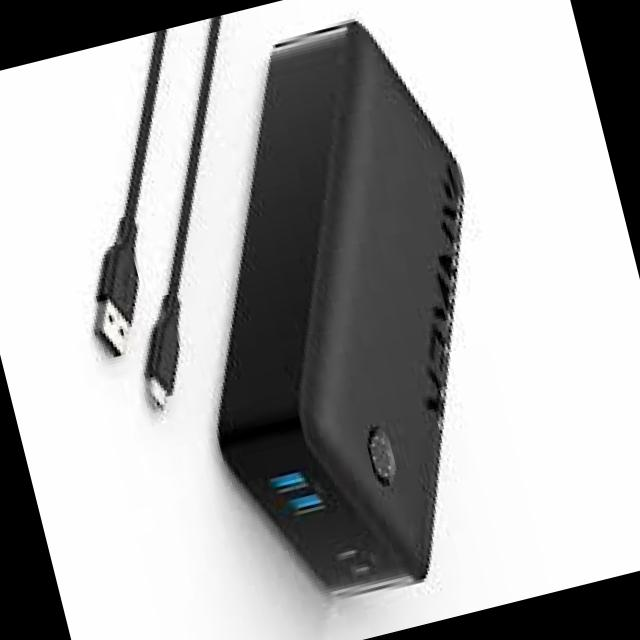power_bank: (126, 0, 559, 624)
